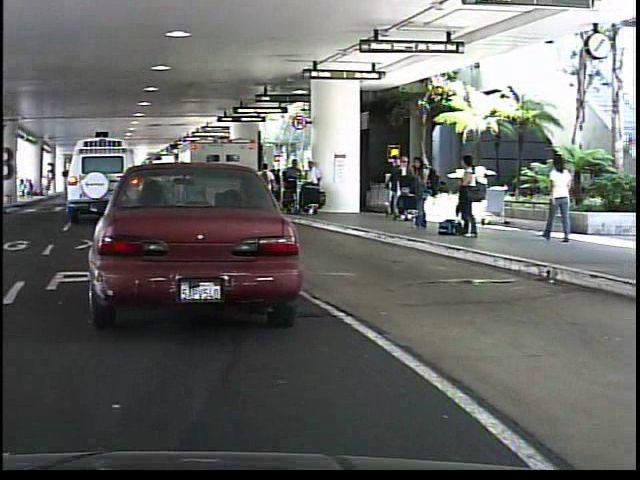person: (539, 154, 577, 244), (451, 151, 479, 239)
